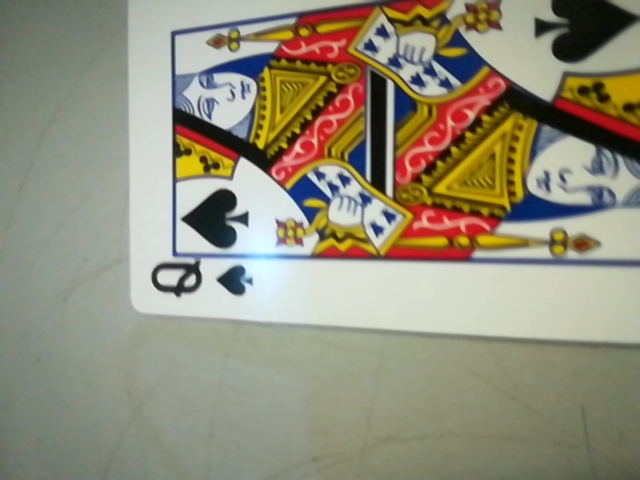ht q: (131, 252, 264, 310)
